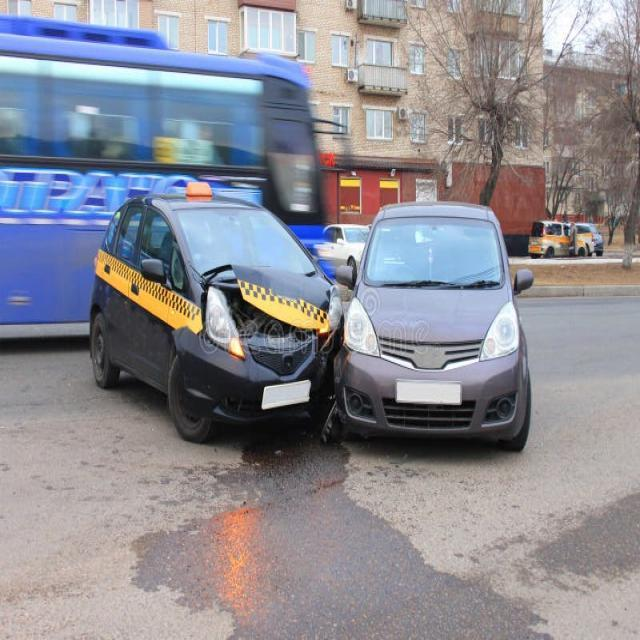car Accident: (173, 222, 439, 432)
